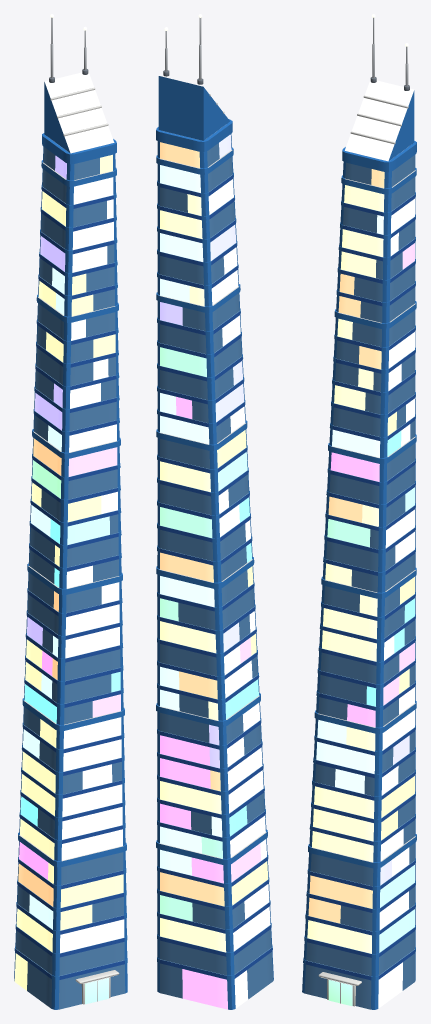
File: arranha_ceu_prisma_inclinado.glb
The picture shows the model from 3 angles, left to right: view 1: azimuth 30°, elevation 25°; view 2: azimuth 150°, elevation 25°; view 3: azimuth 330°, elevation 25°; orthographic projection. The views are drawn at different scales.
Visible parts, largest first — view 1: arranha_ceu_prisma_inclinado; view 2: arranha_ceu_prisma_inclinado; view 3: arranha_ceu_prisma_inclinado.
Boxes of the visible parts, box(x1,y1,x2,y2) form: arranha_ceu_prisma_inclinado: box(14, 14, 127, 1009); arranha_ceu_prisma_inclinado: box(156, 14, 273, 1009); arranha_ceu_prisma_inclinado: box(302, 14, 416, 1009).
Size of the model in its own units: 11.68 by 138 by 12.09.
Materials: 10 (1 with a texture image).
